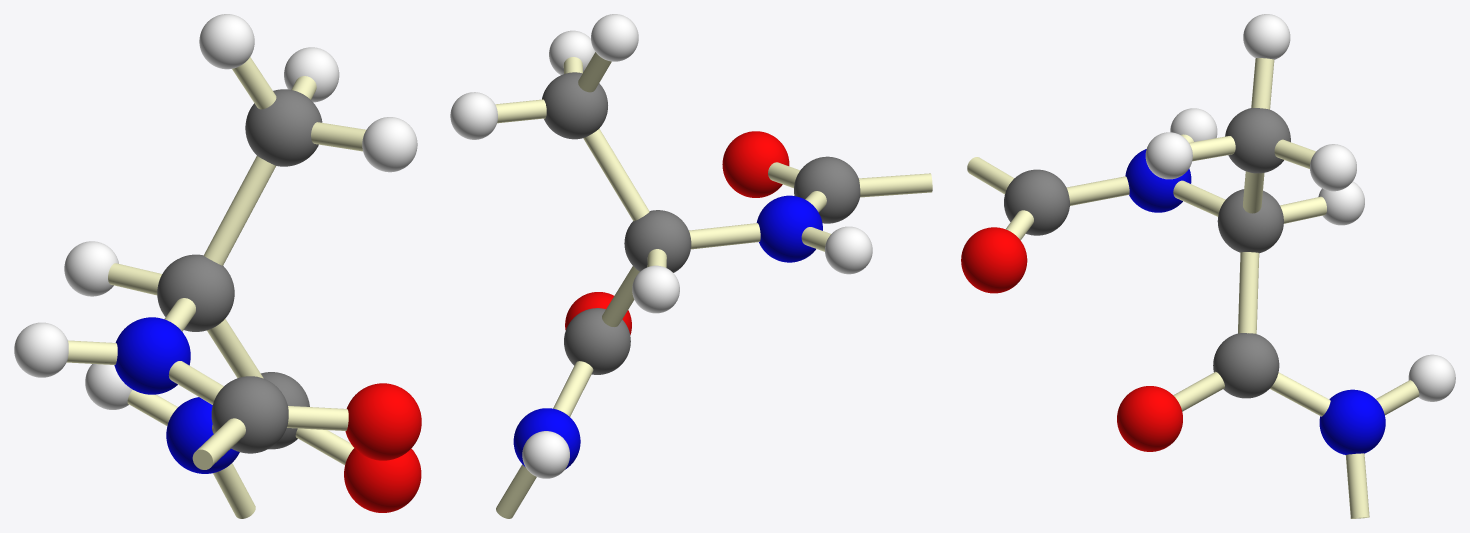
File: conformation.gltf
The picture shows the model from 3 angles, left to right: view 1: azimuth 30°, elevation 25°; view 2: azimuth 150°, elevation 25°; view 3: azimuth 270°, elevation 25°; orthographic projection. The views are drawn at different scales.
Visible parts, largest first — view 1: ?????????2, ?????????3, ?????????9, ?????????1, ?????????4, ?????????6, ?????????13, ?????????22, ?????????10, ?????????12, ?????????7, ?????????8 (+15 smaller); view 2: ?????????2, ?????????9, ?????????5, ?????????3, ?????????4, ?????????1, ?????????13, ?????????22, ?????????7, ?????????8, ?????????10, ?????????14 (+11 smaller); view 3: ?????????2, ?????????6, ?????????13, ?????????5, ?????????1, ?????????9, ?????????4, ?????????3, ?????????12, ?????????11, ?????????10, ?????????14 (+15 smaller).
Boxes of the visible parts, x1,y1,x2,y2 form: ?????????2: [345, 383, 421, 460]; ?????????3: [114, 317, 190, 394]; ?????????9: [245, 89, 322, 166]; ?????????1: [211, 376, 288, 453]; ?????????4: [157, 254, 234, 331]; ?????????6: [344, 448, 421, 512]; ?????????13: [166, 397, 239, 473]; ?????????22: [204, 156, 275, 265]; ?????????10: [199, 14, 254, 69]; ?????????12: [362, 117, 417, 172]; ?????????7: [14, 322, 68, 377]; ?????????8: [64, 241, 118, 296]; ?????????2: [722, 131, 789, 197]; ?????????9: [542, 72, 607, 139]; ?????????5: [564, 308, 630, 374]; ?????????3: [756, 195, 822, 262]; ?????????4: [624, 210, 691, 272]; ?????????1: [794, 156, 860, 223]; ?????????13: [513, 408, 580, 469]; ?????????22: [583, 128, 649, 221]; ?????????7: [825, 226, 872, 274]; ?????????8: [632, 265, 679, 313]; ?????????10: [591, 14, 638, 61]; ?????????14: [522, 431, 569, 478]; ?????????2: [961, 227, 1027, 293]; ?????????6: [1117, 386, 1182, 451]; ?????????13: [1319, 389, 1385, 454]; ?????????5: [1213, 333, 1279, 398]; ?????????1: [1004, 169, 1069, 235]; ?????????9: [1225, 108, 1290, 173]; ?????????4: [1217, 189, 1283, 253]; ?????????3: [1125, 149, 1191, 212]; ?????????12: [1145, 132, 1192, 179]; ?????????11: [1310, 144, 1356, 191]; ?????????10: [1243, 14, 1290, 59]; ?????????14: [1408, 354, 1455, 401].
Bounding box in the file's own units: 41.65 × 55.47 × 52.32.
